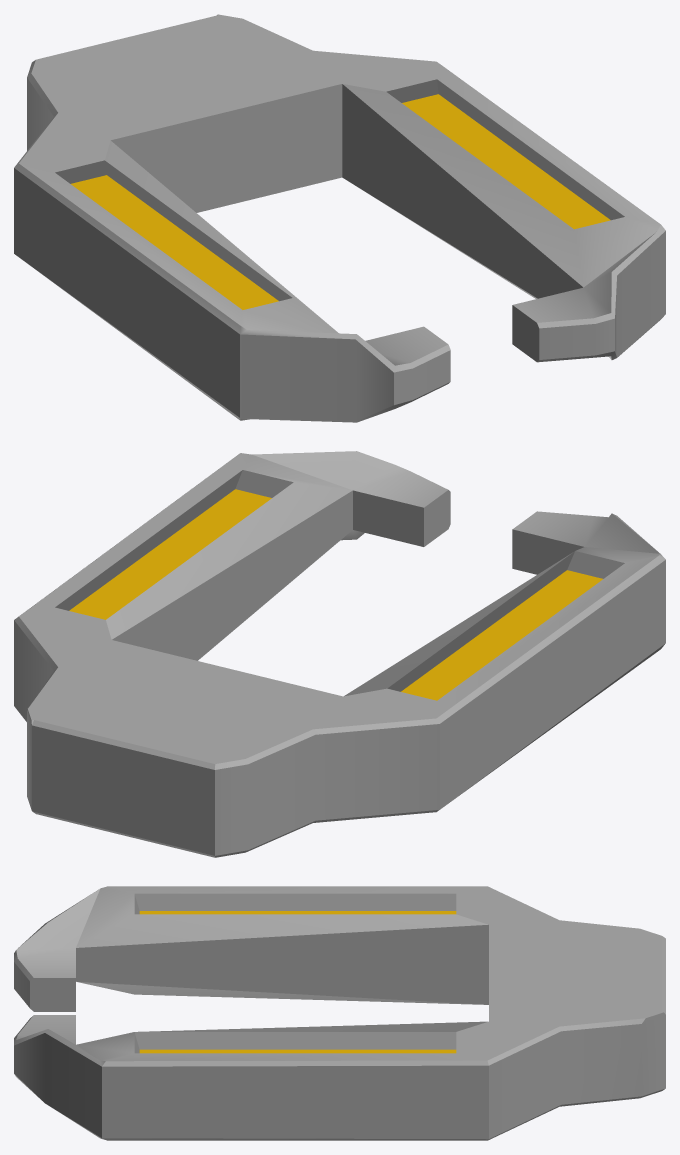
The model's file is Joe_Attachment.fbx.
3 views of the same model, one above another, from view 1: azimuth 30°, elevation 25°; view 2: azimuth 150°, elevation 25°; view 3: azimuth 270°, elevation 25° (orthographic). The views are drawn at different scales.
Visible parts, largest first — view 1: polySurface888; view 2: polySurface888; view 3: polySurface888.
Boxes of the visible parts, <box> form: polySurface888: <box>14,14,665,422</box>; polySurface888: <box>14,451,665,857</box>; polySurface888: <box>14,886,665,1140</box>.
Bounding box in the file's own units: 15.12 × 3.18 × 23.42.
